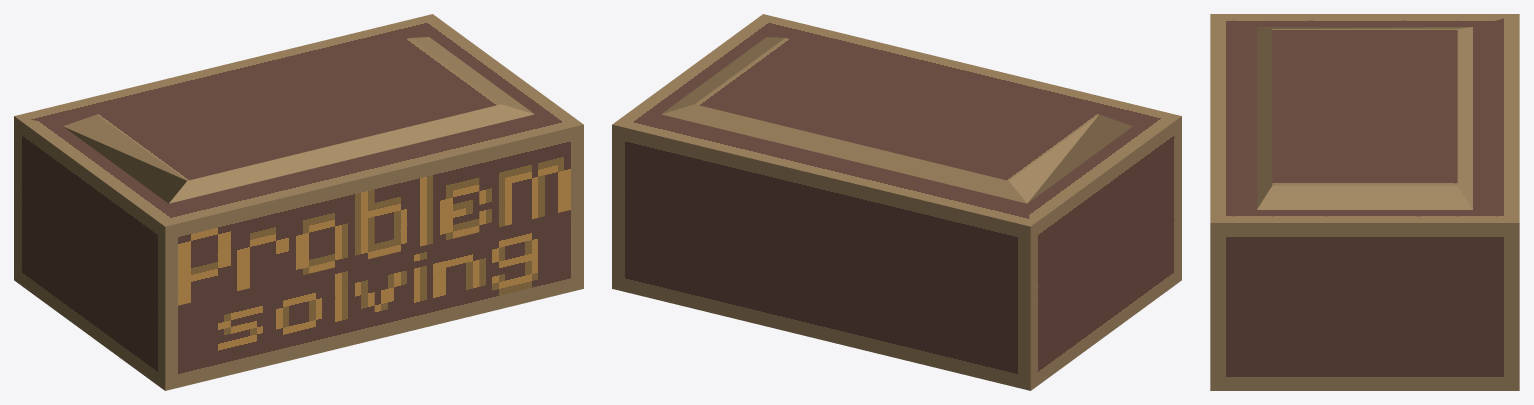
Rendered from brick_ps.gltf.
3 renders of one model, left to right at view 1: azimuth 30°, elevation 25°; view 2: azimuth 150°, elevation 25°; view 3: azimuth 270°, elevation 25°, orthographic. The views are drawn at different scales.
Visible parts, largest first — view 1: cuboid; view 2: cuboid; view 3: cuboid.
Boxes of the visible parts, x1,y1,x2,y2 form: cuboid: [14, 14, 583, 390]; cuboid: [612, 14, 1181, 390]; cuboid: [1210, 14, 1519, 390].
Size of the model in its own units: 1 by 0.4 by 0.625.
1 material, 1 textured.
